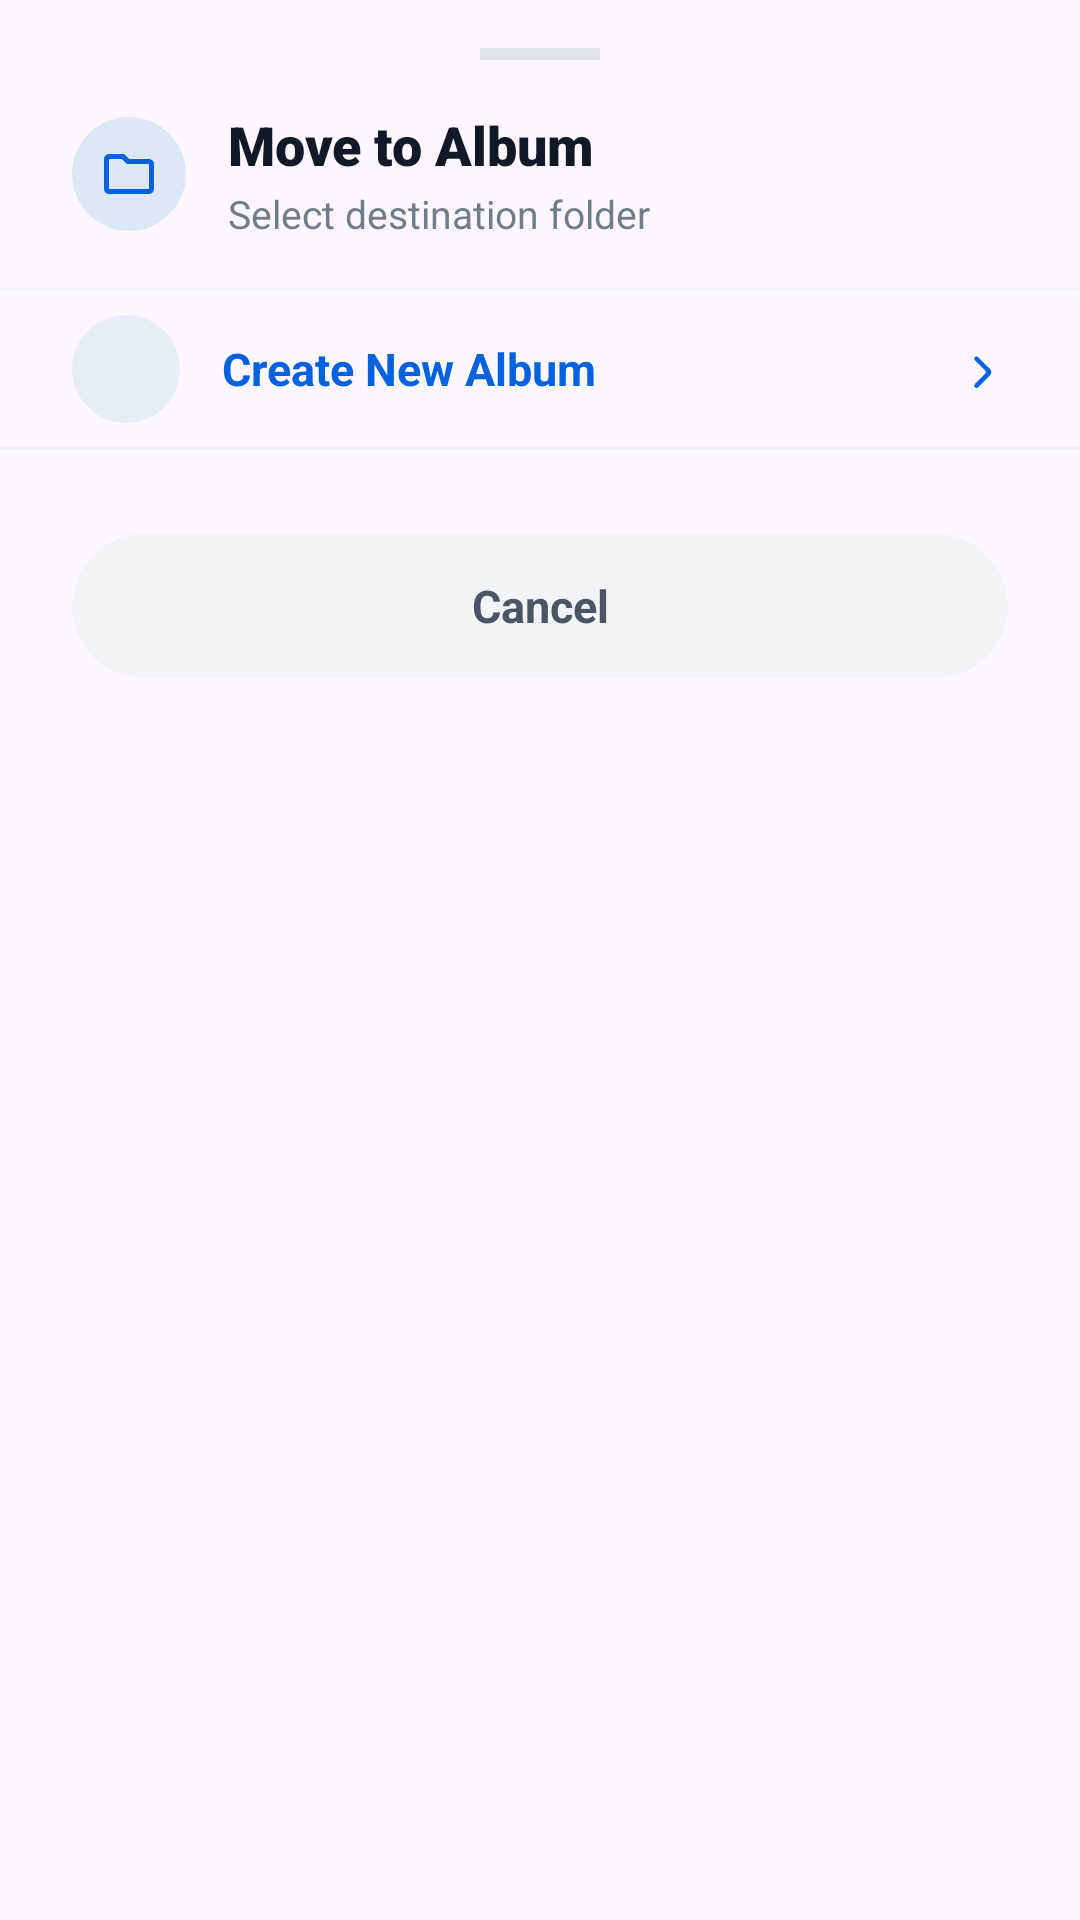

Point at icon controls on the screen. Image size 1080x1920, points as point (x, y).
chevron right: point (983, 372)
